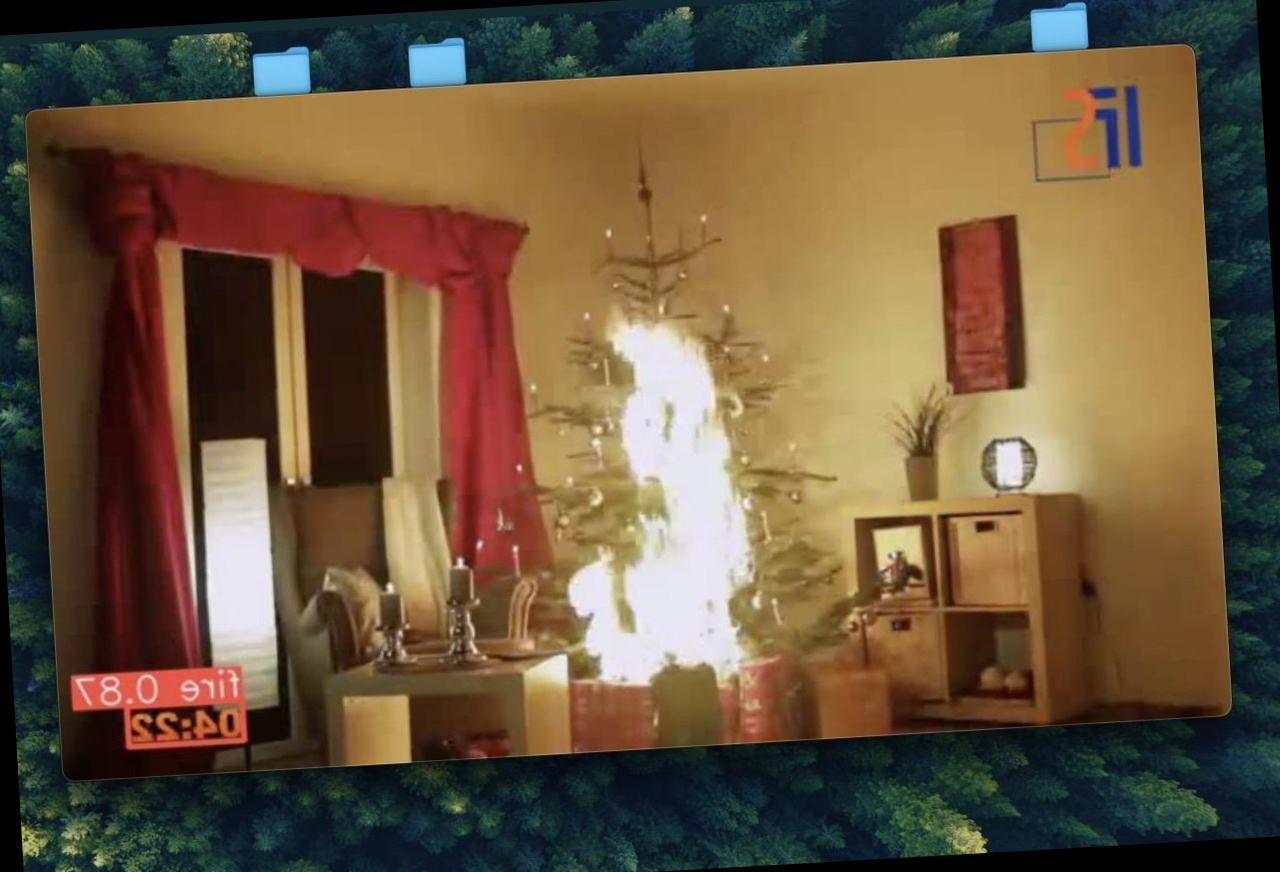fire: (500, 241, 792, 706)
